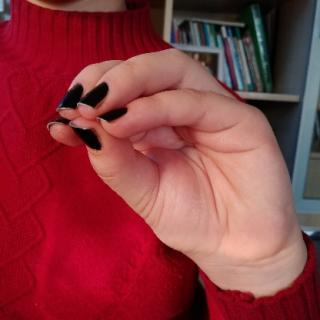HA: (40, 41, 294, 278)
